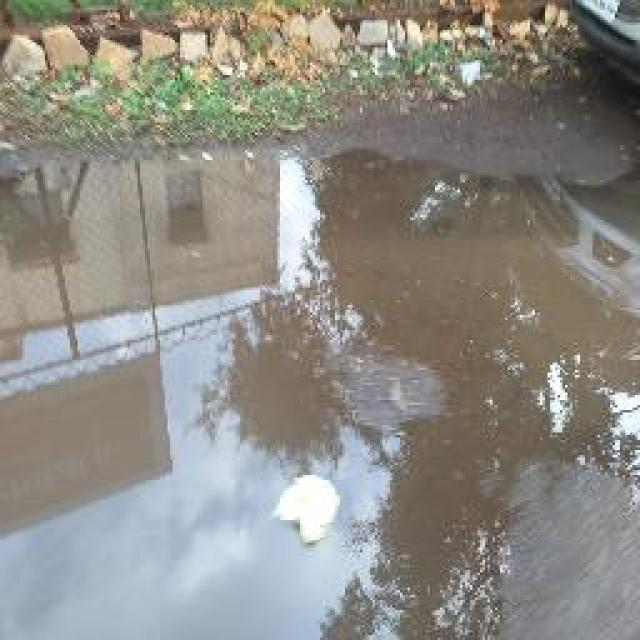puddle: (8, 158, 510, 640), (523, 175, 640, 467)
